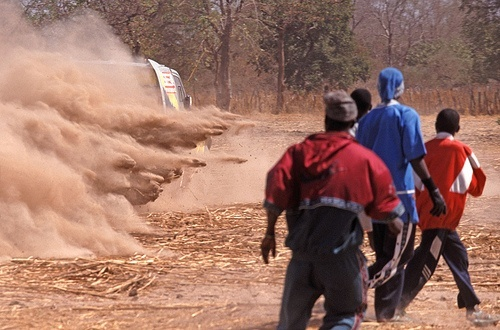head: (319, 87, 360, 142), (375, 61, 410, 110), (429, 101, 465, 141)
person: (255, 89, 403, 330), (355, 62, 446, 307), (398, 106, 486, 320), (348, 87, 371, 132)
